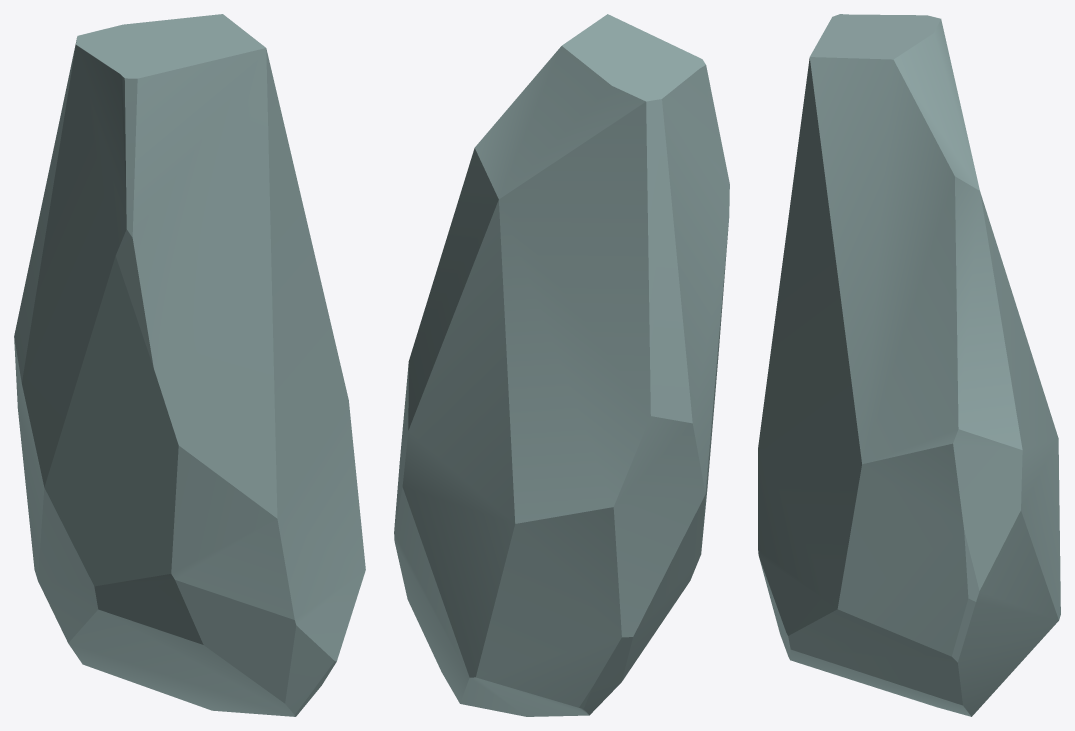
Rendered from rock_tall2.fbx.
3 renders of one model, left to right at view 1: azimuth 30°, elevation 25°; view 2: azimuth 150°, elevation 25°; view 3: azimuth 270°, elevation 25°, orthographic. The views are drawn at different scales.
Parts seen in each view (by area): view 1: rocl_tall2; view 2: rocl_tall2; view 3: rocl_tall2.
Boxes of the visible parts, bbox=[...] form: rocl_tall2: bbox=[14, 14, 365, 716]; rocl_tall2: bbox=[394, 14, 729, 716]; rocl_tall2: bbox=[758, 14, 1060, 716].
Bounding box in the file's own units: 534 × 1182 × 505.
